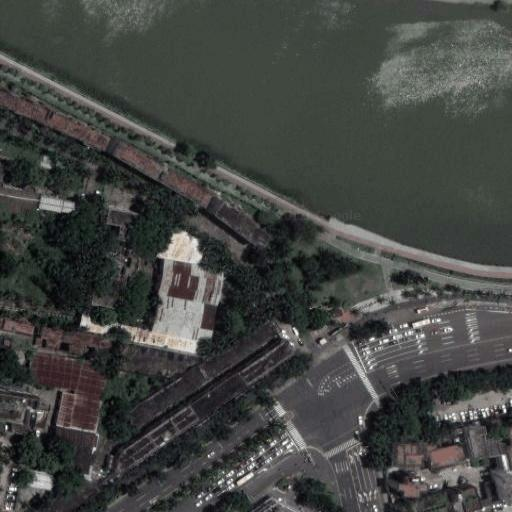building: (112, 139, 215, 209), (106, 404, 201, 475), (197, 318, 280, 381), (90, 207, 140, 309), (127, 365, 207, 426), (79, 318, 198, 354), (156, 258, 226, 307), (151, 295, 219, 344), (120, 343, 202, 380), (43, 109, 112, 152), (191, 371, 251, 420), (34, 326, 112, 361), (213, 196, 269, 243), (36, 475, 99, 512), (241, 340, 295, 383), (156, 225, 210, 266), (53, 426, 97, 475), (32, 352, 74, 388), (70, 389, 104, 433), (9, 398, 50, 434), (69, 358, 109, 394), (469, 426, 510, 461), (445, 484, 482, 512), (430, 442, 467, 470), (399, 492, 450, 512), (23, 469, 55, 491), (54, 389, 73, 425), (397, 443, 426, 463), (390, 472, 416, 491), (38, 196, 64, 214), (479, 495, 500, 508), (483, 480, 498, 498), (61, 199, 76, 217), (38, 154, 53, 170), (501, 454, 512, 470)
